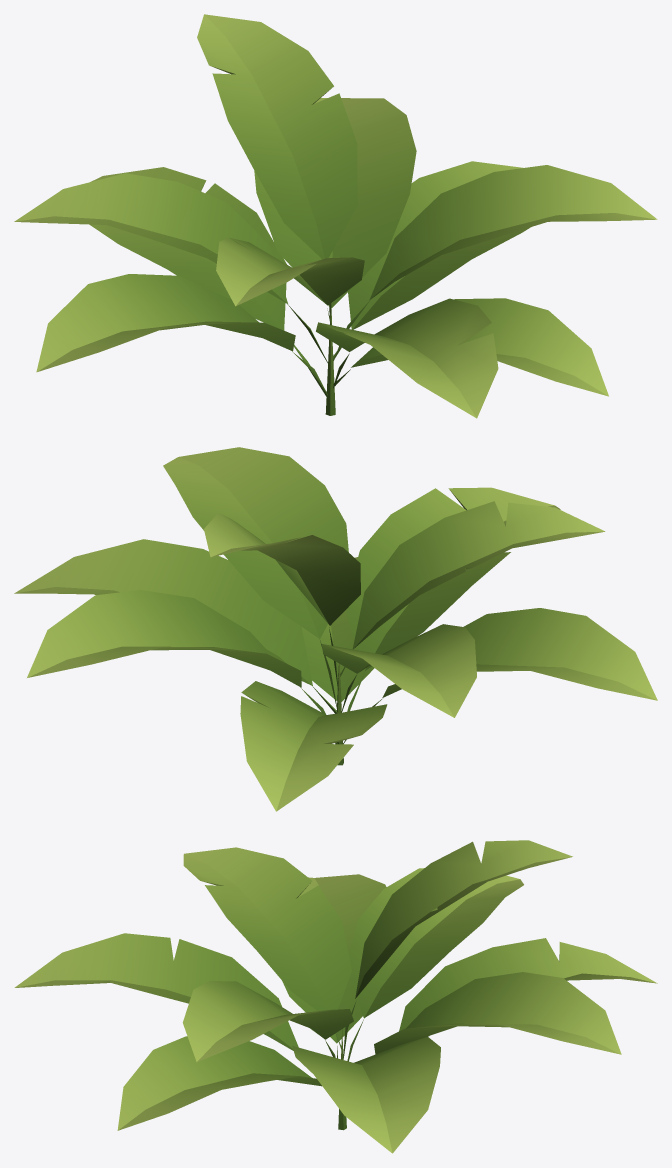
The model's file is Spring_Plant_01.glb.
The picture shows the model from 3 angles, top to bottom: view 1: azimuth 30°, elevation 25°; view 2: azimuth 150°, elevation 25°; view 3: azimuth 270°, elevation 25°; orthographic projection. The views are drawn at different scales.
Parts seen in each view (by area): view 1: Spring_Plant_01_LOD0; view 2: Spring_Plant_01_LOD0; view 3: Spring_Plant_01_LOD0.
Part boxes in pixels (x1,y1,x2,y2): Spring_Plant_01_LOD0: (14,14,657,418); Spring_Plant_01_LOD0: (14,447,657,811); Spring_Plant_01_LOD0: (14,840,657,1153).
Size of what is drawn, in the model's own units: 1.69 by 0.8081 by 1.71.
1 material, 1 textured.
